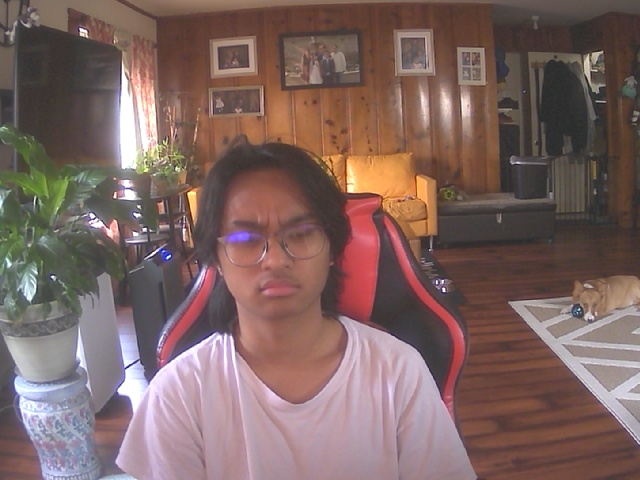anger: (212, 150, 338, 326)
